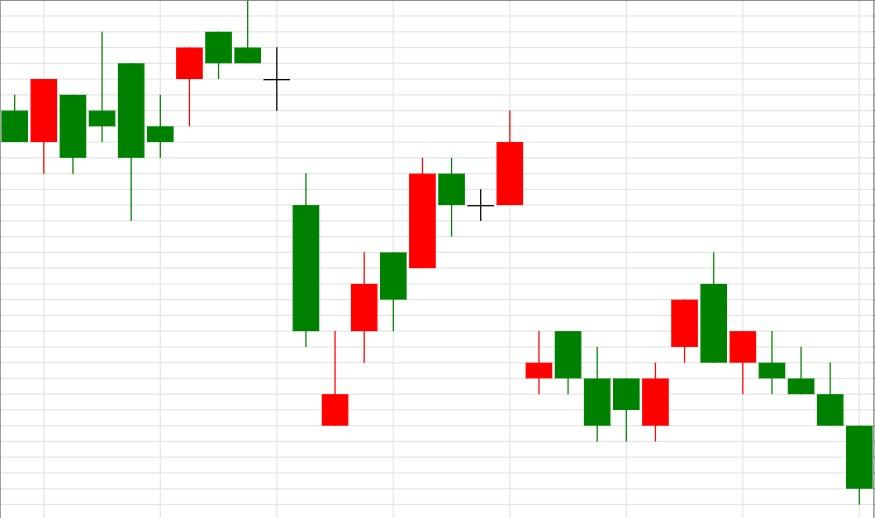bearish_engulfing_fall: (583, 250, 727, 441)
inverse_hammer_rise: (205, 0, 350, 427)
shooting_star_fall: (116, 0, 261, 221)
